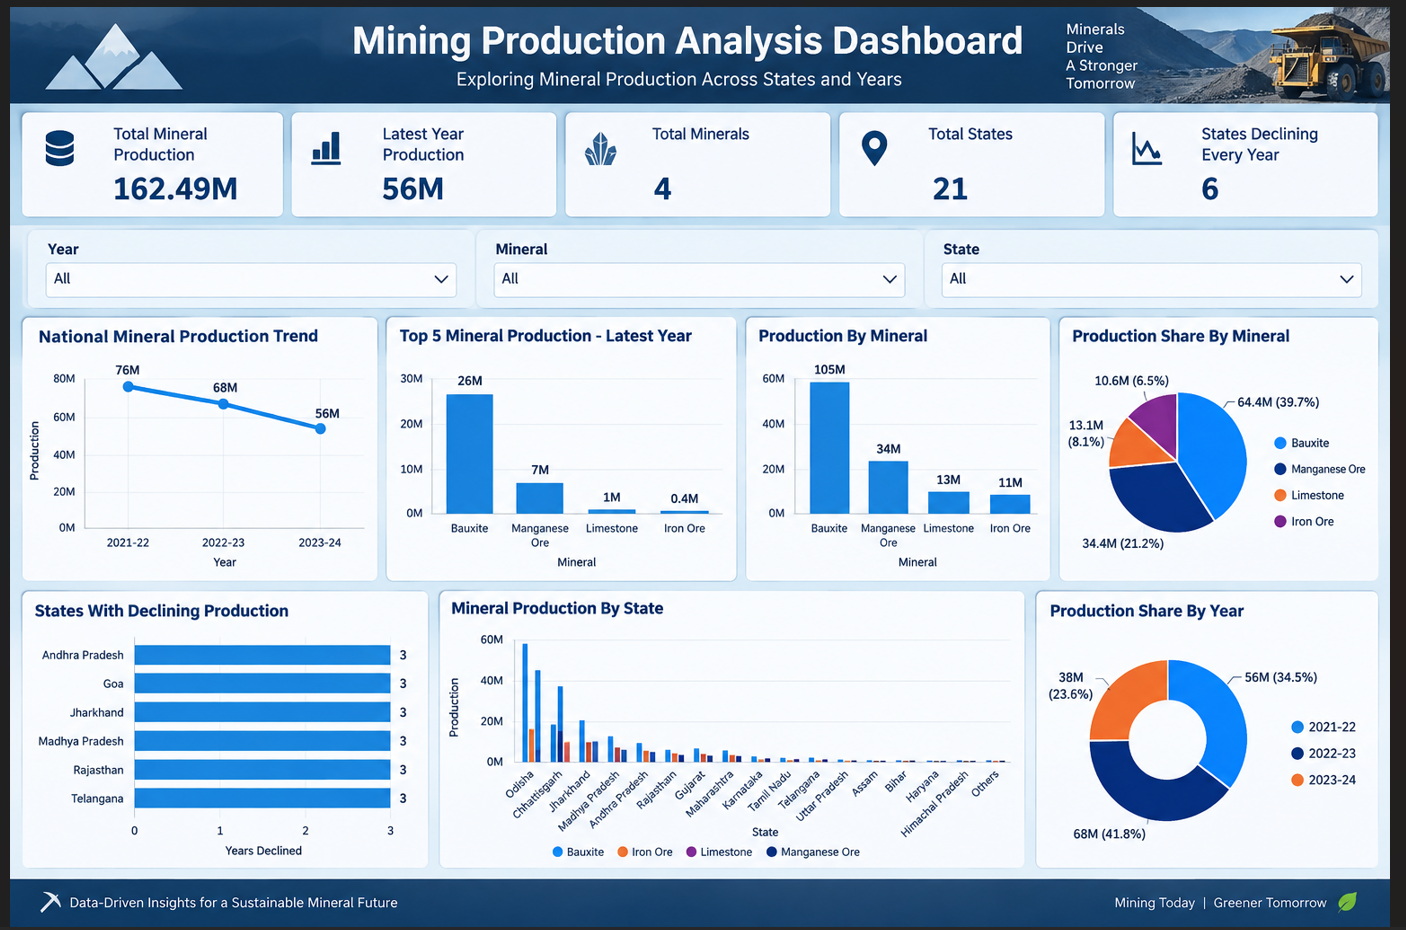

This screenshot's page, from the dashboard's own definition file:
{"tool":"powerbi","page":{"name":"Page 1","canvas":[1920,1080],"ordinal":0},"visuals":[{"type":"cardVisual","title":"Total Mineral Production","fields":{"Data":["national_production_by_year.Total Production"]},"box":[23.5,90.5,416.2,92.3],"z":0},{"type":"cardVisual","title":"Latest Year Production","fields":{"Data":["top_5_latest_year.Latest Year Production"]},"box":[477.8,88.7,349.3,92.3],"z":1},{"type":"textbox","box":[554,15.1,696.9,54.1],"z":2},{"type":"cardVisual","title":"Total Minerals","fields":{"Data":["top_5_latest_year.Total Minerals"]},"box":[854.2,86.9,347.5,92.3],"z":3},{"type":"cardVisual","title":"Total States","fields":{"Data":["Dim_State.Total States"]},"box":[1241.4,86.9,347.5,94.1],"z":4},{"type":"lineChart","title":"National Mineral Production Trend","fields":{"Category":["national_production_by_year.year"],"Y":["Sum(national_production_by_year.production)"]},"box":[23.5,322.1,506.7,298.6],"z":5},{"type":"clusteredColumnChart","title":"Top 5 Mineral Production - Latest Year","fields":{"Category":["top_5_latest_year.mineral"],"Series":["top_5_latest_year.state"],"Y":["Sum(top_5_latest_year.production)"]},"box":[541.1,323.9,441.6,296.8],"z":6},{"type":"clusteredColumnChart","title":" Production By Mineral","fields":{"Category":["top_5_latest_year.mineral"],"Y":["Sum(top_5_latest_year.production)"]},"box":[1006.2,323.9,435,298.7],"z":7},{"type":"clusteredBarChart","title":"State With Declining Production ","fields":{"Category":["declining_every_year.state"],"Y":["Sum(declining_every_year.years_declined)"]},"box":[23.5,640.6,738.3,423.5],"z":8},{"type":"columnChart","title":"Mineral Production By State","fields":{"Category":["public mineral_production.state"],"Series":["public mineral_production.mineral"],"Y":["Sum(public mineral_production.production)"]},"box":[780,640.6,546.5,423.5],"z":9},{"type":"pieChart","title":"Production Share By Mineral","fields":{"Category":["public mineral_production.year"],"Series":["public mineral_production.mineral"],"Y":["Sum(public mineral_production.production)"]},"box":[1460.4,323.9,419.8,298.7],"z":10},{"type":"slicer","title":" Production By Mineral","fields":{"Values":["public mineral_production.year"]},"box":[23.5,219,589.9,63.3],"z":11},{"type":"slicer","title":" Production By Mineral","fields":{"Values":["public mineral_production.mineral"]},"box":[629.8,219,696.7,63.3],"z":12},{"type":"slicer","title":" Production By Mineral","fields":{"Values":["public mineral_production.state"]},"box":[1348.2,219,548.3,63.3],"z":13},{"type":"donutChart","title":" production Share By Year","fields":{"Category":["national_production_by_year.mineral"],"Y":["Sum(national_production_by_year.production)"]},"box":[1348.2,640.6,548.3,423.5],"z":14},{"type":"cardVisual","title":"States Declining","fields":{"Data":["declining_every_year.States Declining Every Year"]},"box":[1623.3,86.9,237.1,94.1],"z":15}]}

Visuals, with their boxes on the page's 1920x1080 design canvas (x1, y1, x2, y2). These are canvas units, not pixel positions in the 1406x930 screenshot, which may show the page scaled, cropped or inside an application window:
"Total Mineral Production" cardVisual: rect(24, 90, 440, 183)
"Latest Year Production" cardVisual: rect(478, 89, 827, 181)
textbox: rect(554, 15, 1251, 69)
"Total Minerals" cardVisual: rect(854, 87, 1202, 179)
"Total States" cardVisual: rect(1241, 87, 1589, 181)
"National Mineral Production Trend" lineChart: rect(24, 322, 530, 621)
"Top 5 Mineral Production - Latest Year" clusteredColumnChart: rect(541, 324, 983, 621)
" Production By Mineral" clusteredColumnChart: rect(1006, 324, 1441, 623)
"State With Declining Production " clusteredBarChart: rect(24, 641, 762, 1064)
"Mineral Production By State" columnChart: rect(780, 641, 1326, 1064)
"Production Share By Mineral" pieChart: rect(1460, 324, 1880, 623)
" Production By Mineral" slicer: rect(24, 219, 613, 282)
" Production By Mineral" slicer: rect(630, 219, 1326, 282)
" Production By Mineral" slicer: rect(1348, 219, 1896, 282)
" production Share By Year" donutChart: rect(1348, 641, 1896, 1064)
"States Declining" cardVisual: rect(1623, 87, 1860, 181)
